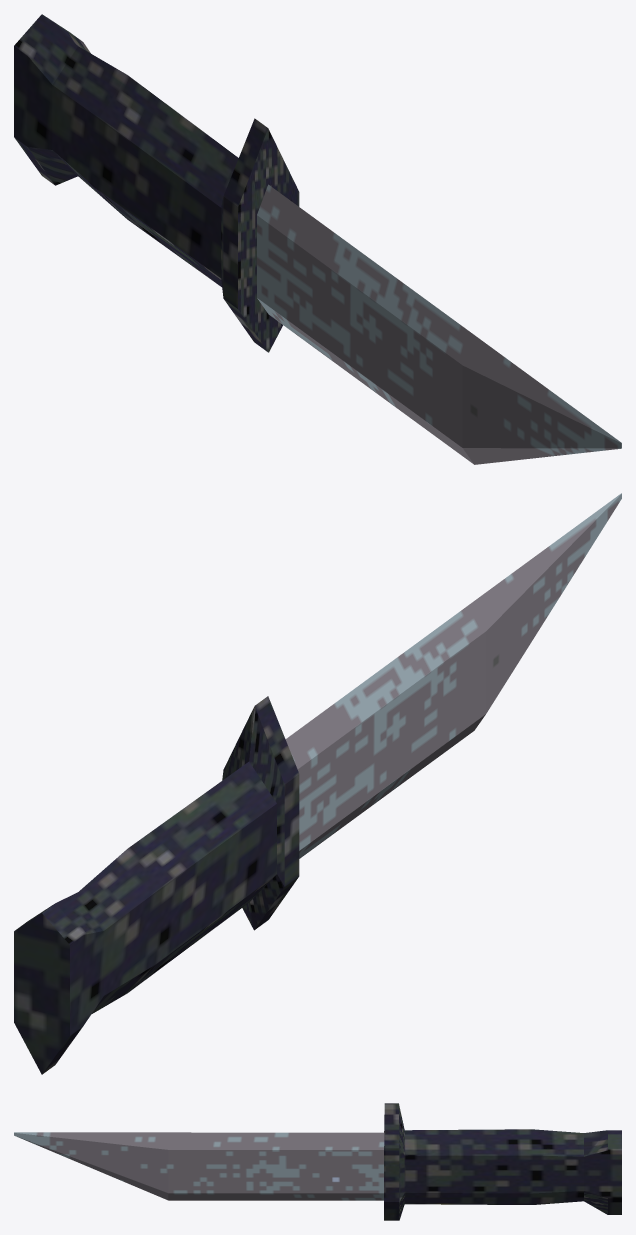
Rendered from Knife.fbx.
3 views of the same model, one above another, from view 1: azimuth 30°, elevation 25°; view 2: azimuth 150°, elevation 25°; view 3: azimuth 270°, elevation 25° (orthographic). The views are drawn at different scales.
Parts seen in each view (by area): view 1: Cylinder; view 2: Cylinder; view 3: Cylinder.
Part boxes in pixels (<box>): Cylinder: <box>14,14,621,464</box>; Cylinder: <box>14,493,621,1074</box>; Cylinder: <box>14,1103,621,1220</box>.
Bounding box in the file's own units: 19.37 × 67.73 × 317.
Materials: 2 (2 with a texture image).
